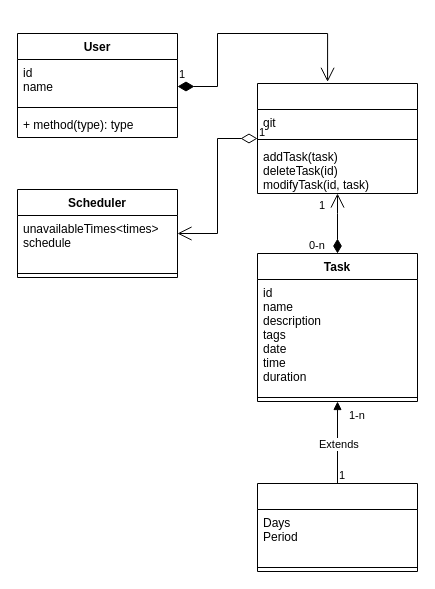
Image size: 435x589. Some labels were removed from this diagram. Here are the shapes that lost their labels. From the top down, the box of each, then its label:
(256, 82, 418, 194): Task List
(256, 482, 418, 572): Periodic Task
